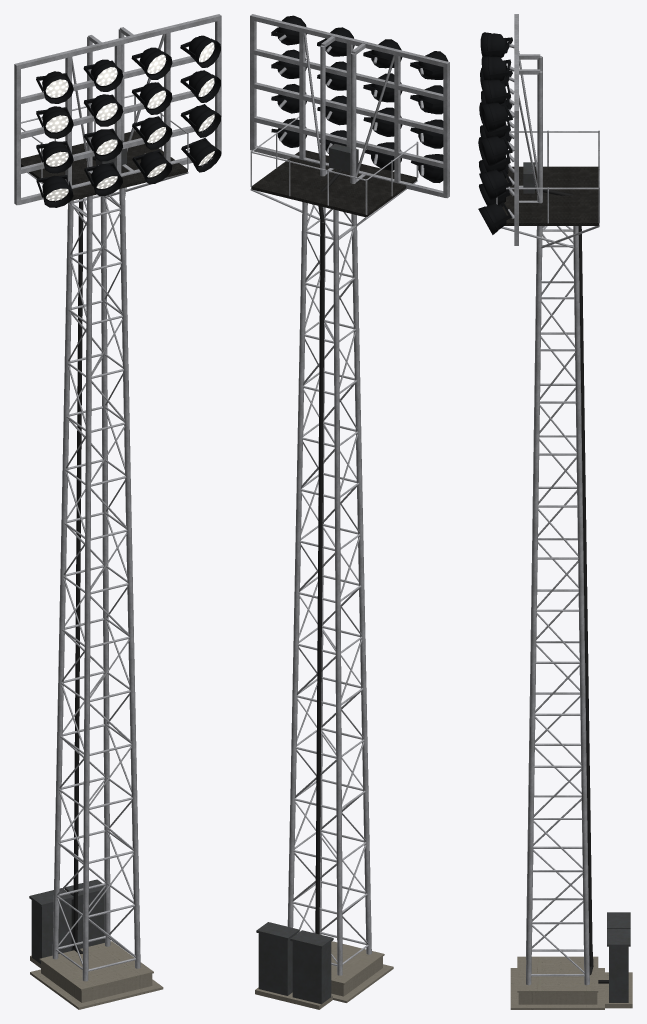
File: light_tower_lod1.glb
The picture shows the model from 3 angles, left to right: view 1: azimuth 30°, elevation 25°; view 2: azimuth 150°, elevation 25°; view 3: azimuth 270°, elevation 25°; orthographic projection. The views are drawn at different scales.
Parts seen in each view (by area): view 1: LightTower_Mesh; view 2: LightTower_Mesh; view 3: LightTower_Mesh.
Boxes of the visible parts, x1,y1,x2,y2 form: LightTower_Mesh: (14, 14, 221, 1009); LightTower_Mesh: (250, 14, 449, 1009); LightTower_Mesh: (478, 14, 632, 1009).
Bounding box in the file's own units: 5.82 × 25.99 × 3.92.
Materials: 7 (5 with a texture image).
